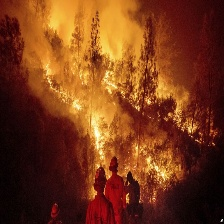fire: (129, 91, 195, 132), (42, 70, 82, 111), (136, 148, 167, 181), (94, 115, 114, 157), (104, 67, 117, 95)
smoke: (16, 2, 151, 65)
